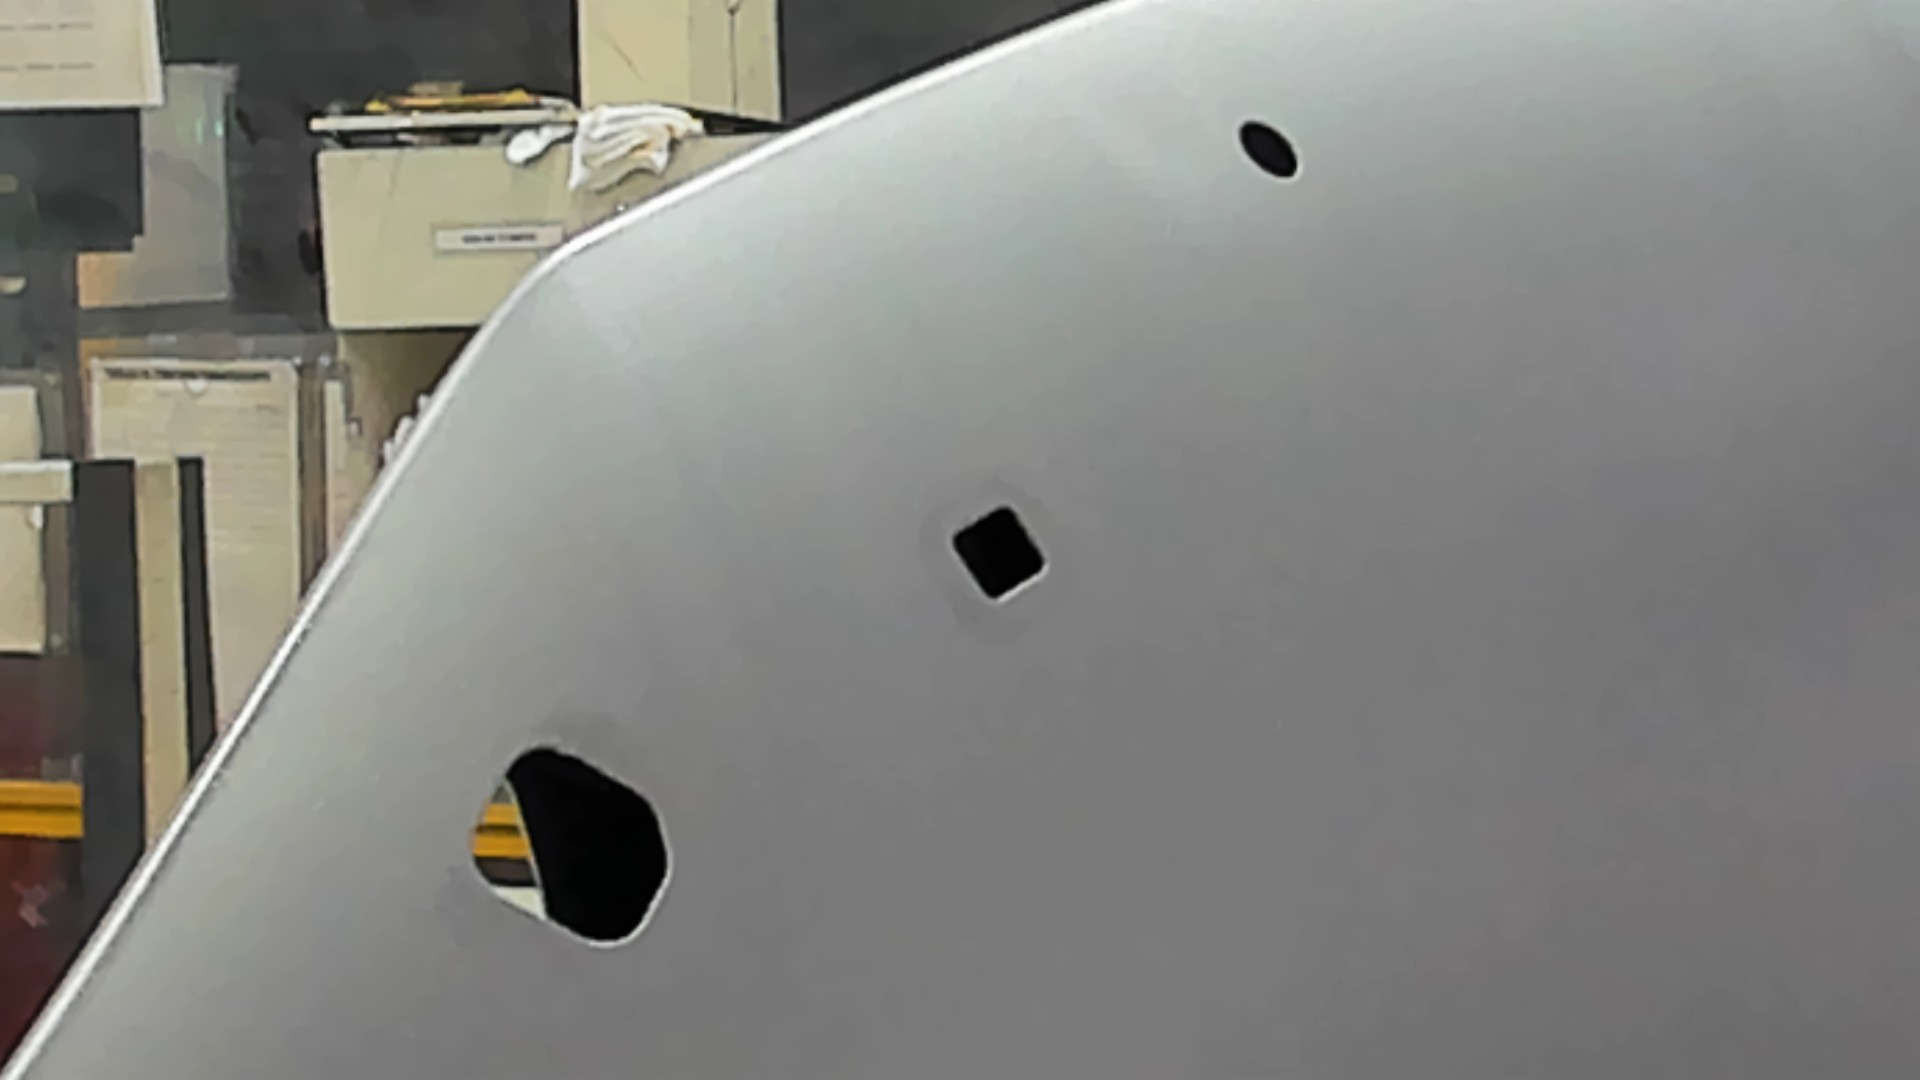Agujero: (949, 504, 1048, 605), (1236, 116, 1304, 182)
Agujerote: (465, 744, 673, 952)
